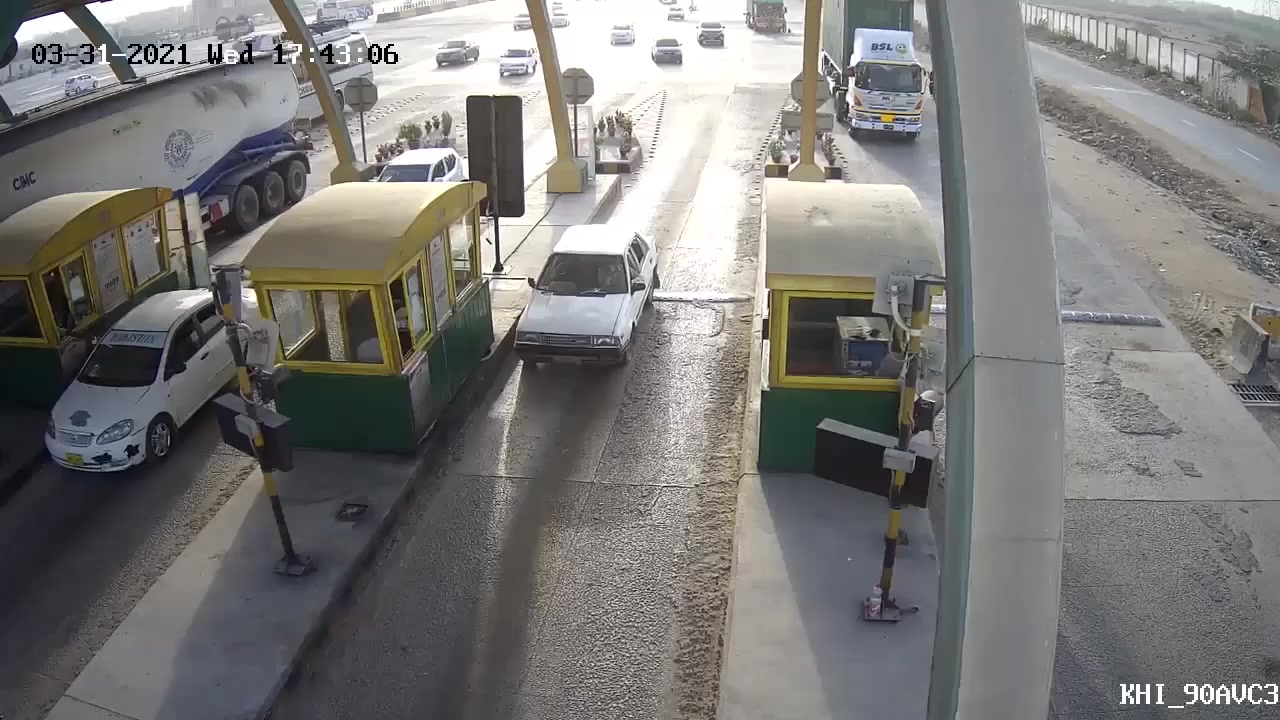F1: (503, 213, 665, 378)
